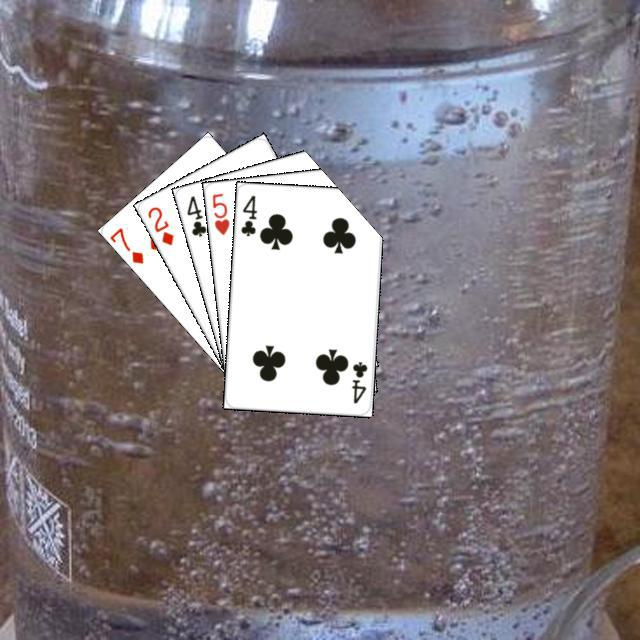2d: (143, 201, 176, 247)
4c: (182, 191, 208, 239), (236, 190, 258, 238), (347, 357, 369, 405)
5h: (207, 188, 231, 237)
7d: (105, 222, 145, 266)
